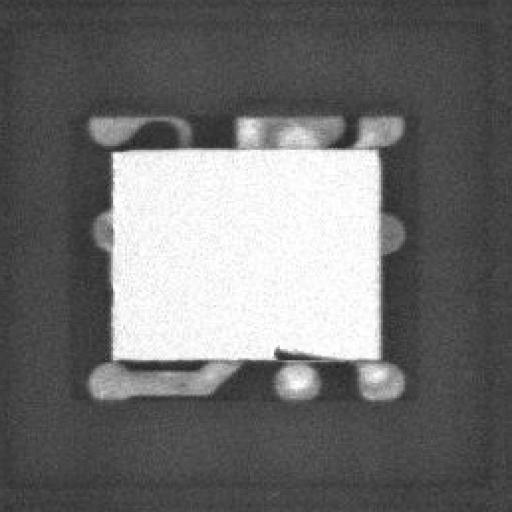DIE_BROKEN: (266, 340, 339, 360)
